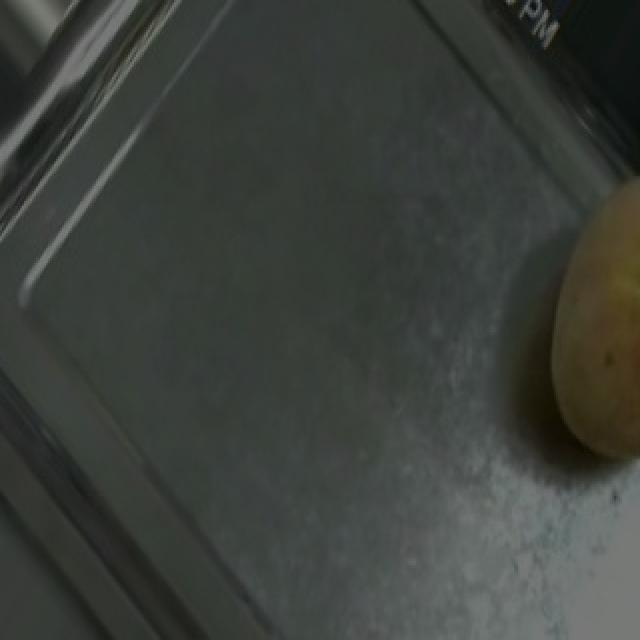Fruit: (506, 154, 640, 486)
